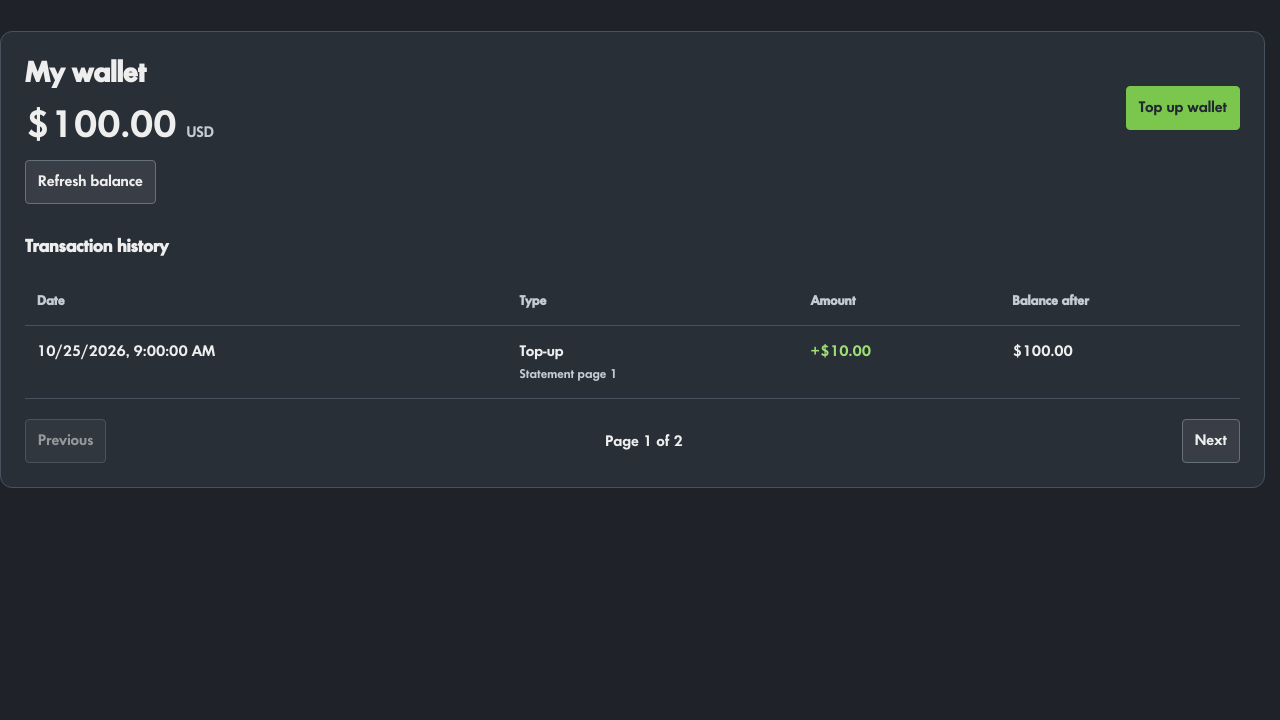
Test: retains the visible page when the server returns a different page, then retries the intended page
This screenshot has width=1280, height=720.
Expected: the text "Statement page 1" is shown, [520,367,618,381]
Click the button "Next" at (1211, 441), box [1182,419,1240,463]
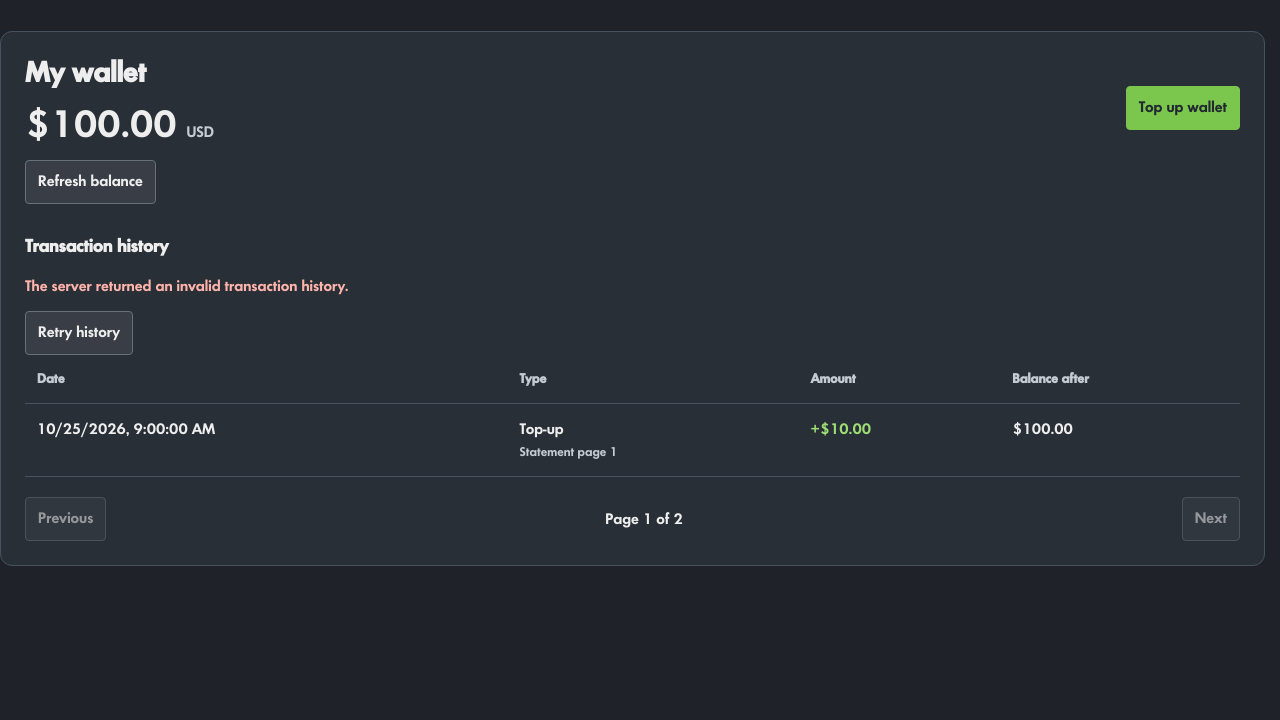
Expected: the text "Page 1 of 2" is shown, [605,510,683,528]
Expected: the message shows "invalid transaction history", [25,278,349,294]
Expected: the button "Next" is disabled, [1182,497,1240,541]
Click the button "Retry history" at (79, 333), box [25,311,133,355]
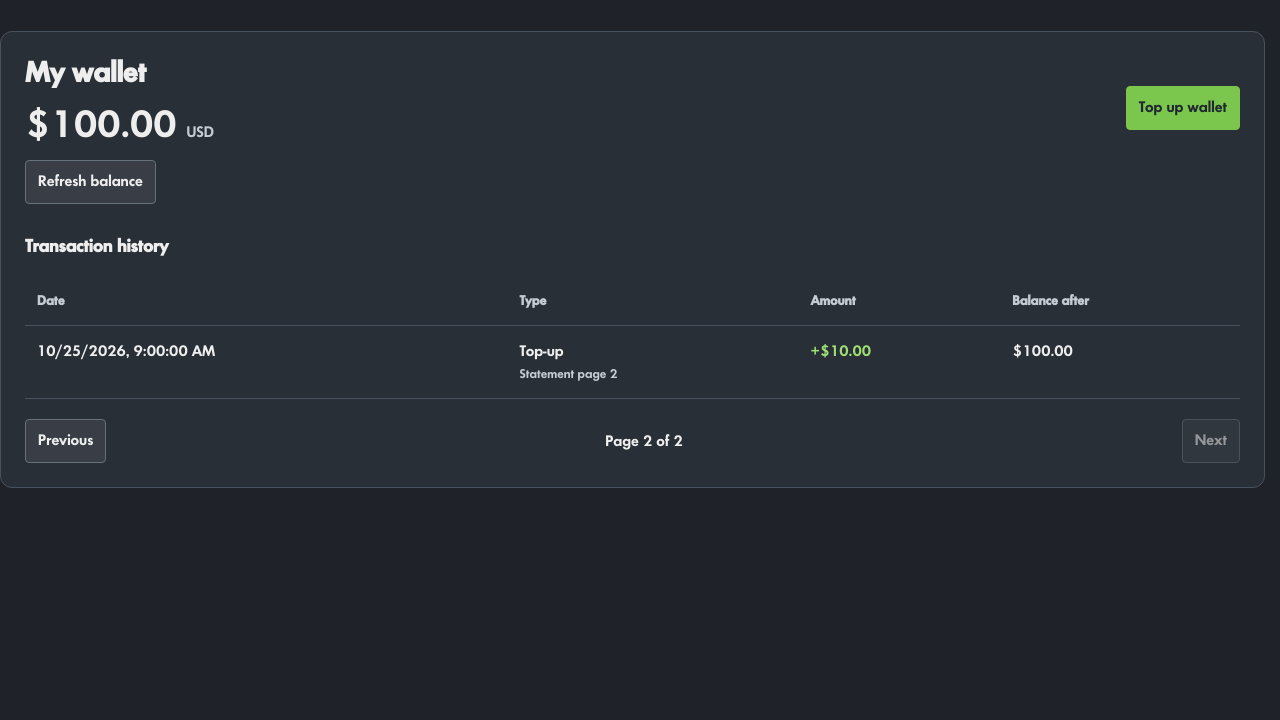
Expected: the text "Page 2 of 2" is shown, [605,432,683,450]
